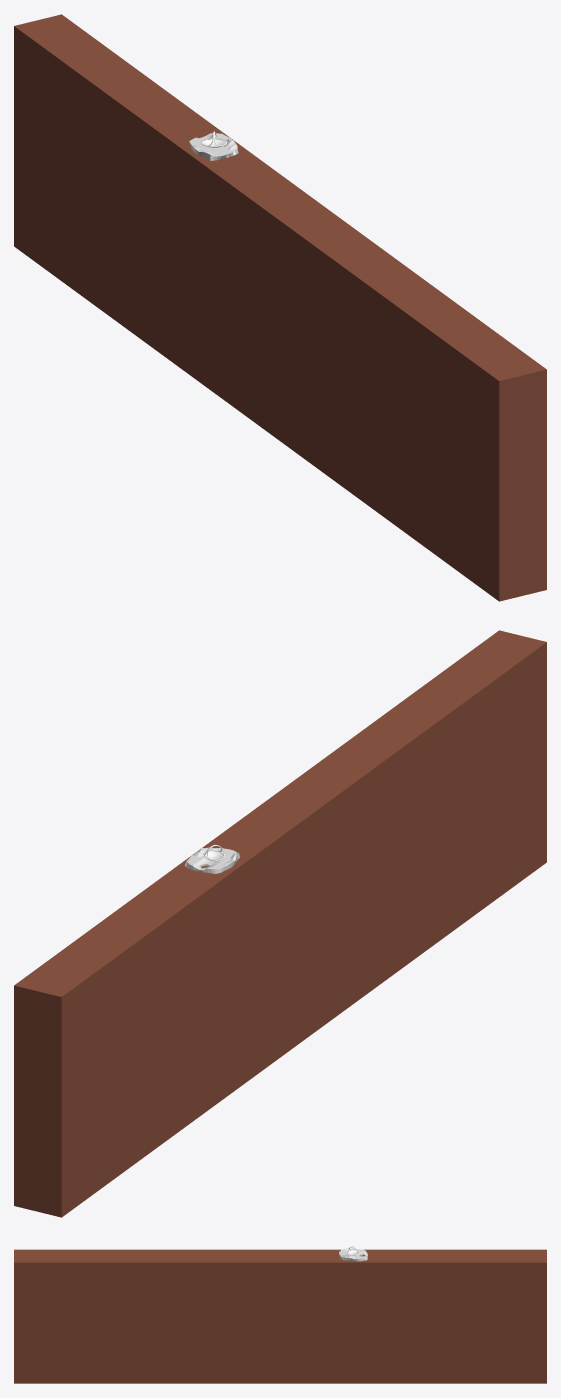
The model's file is FishingScene.glb.
The picture shows the model from 3 angles, top to bottom: view 1: azimuth 30°, elevation 25°; view 2: azimuth 150°, elevation 25°; view 3: azimuth 270°, elevation 25°; orthographic projection. The views are drawn at different scales.
Parts seen in each view (by area): view 1: Water, Plane.002; view 2: Water, Plane.002; view 3: Water, Plane.002.
Boxes of the visible parts, x1,y1,x2,y2 form: Water: (14,14,546,601); Plane.002: (189,133,238,160); Water: (14,630,546,1217); Plane.002: (184,847,239,873); Water: (14,1249,546,1383); Plane.002: (339,1248,367,1261).
Size of the model in its own units: 3.3 by 15.71 by 58.16.
